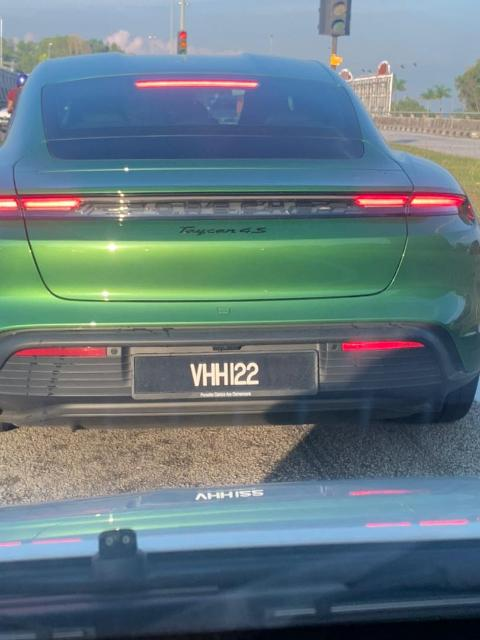License_Plate: (137, 356, 306, 392)
car: (1, 53, 480, 429)
